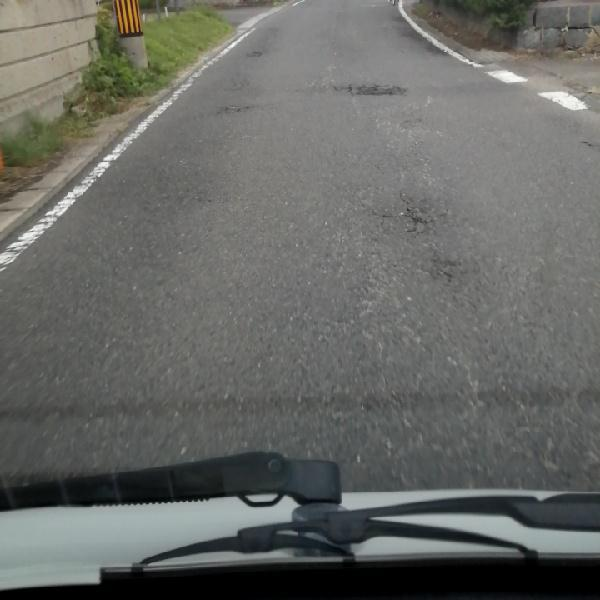D20: (339, 239, 599, 469)
D40: (399, 211, 438, 235)
D44: (0, 16, 271, 297)
